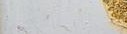Corrosion: (102, 1, 127, 28)
